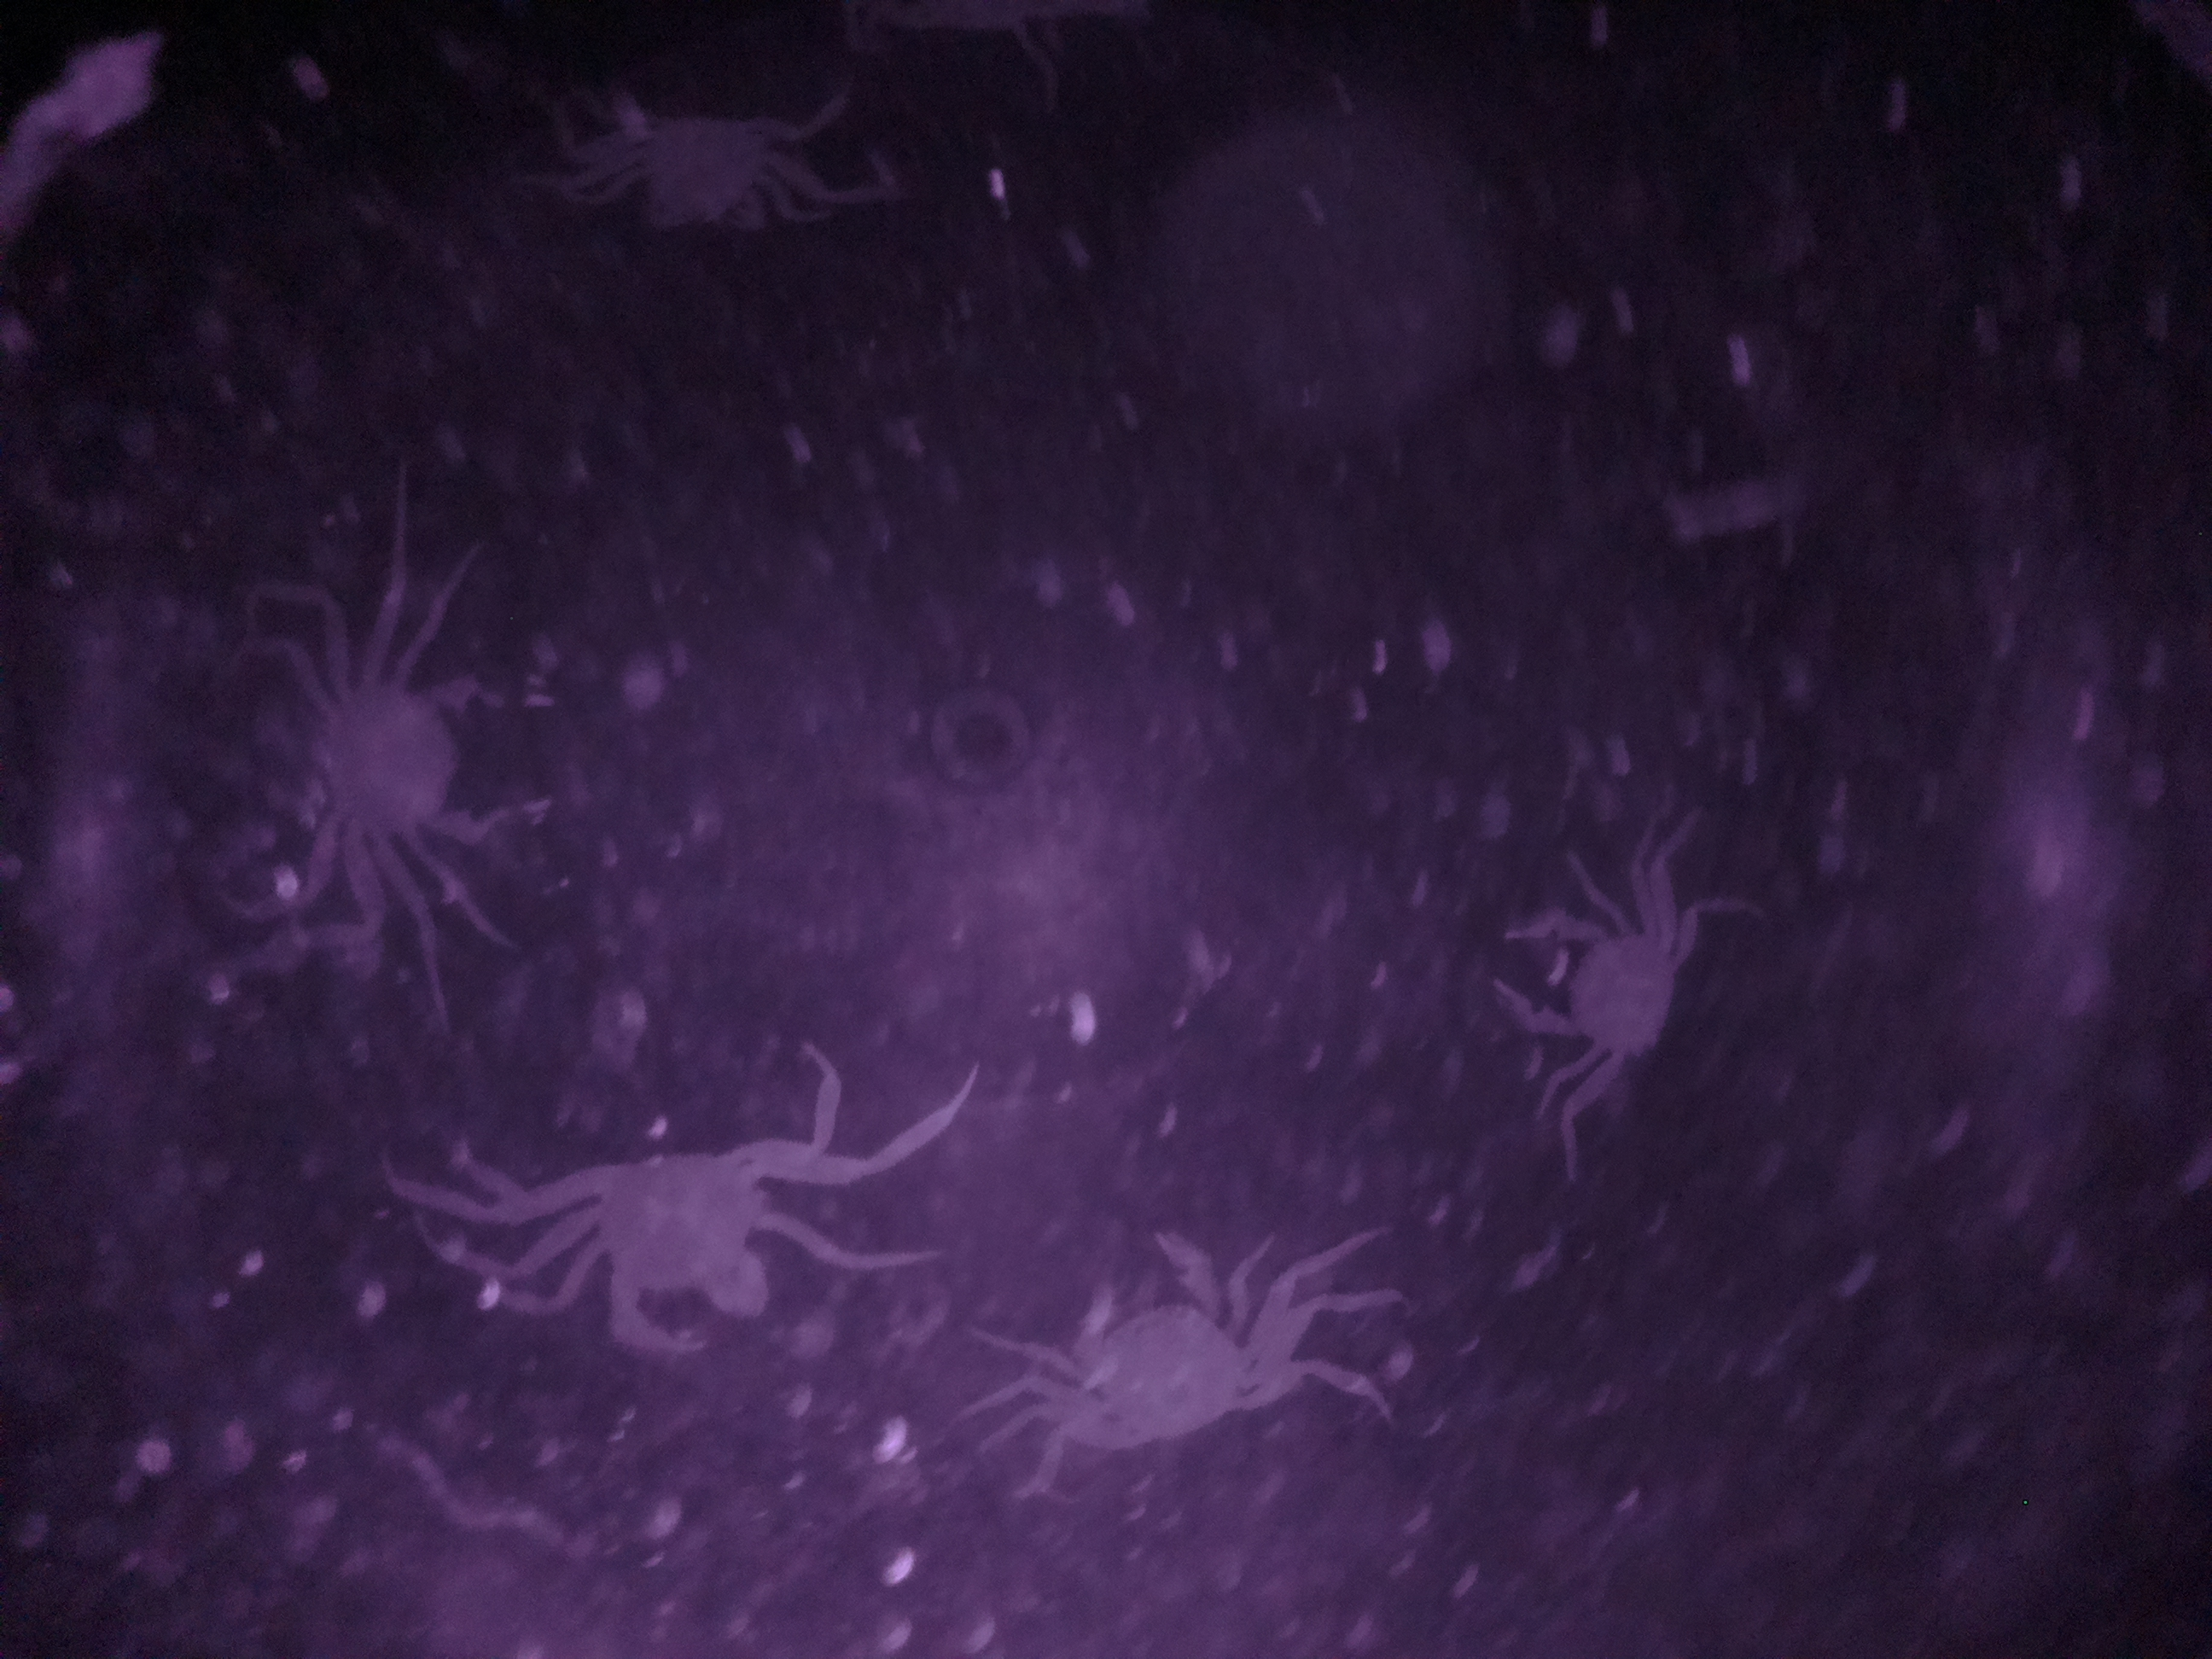Crab: (1038, 1211, 1292, 1500), (536, 1143, 845, 1380), (1465, 889, 1712, 1101), (608, 105, 840, 251)
